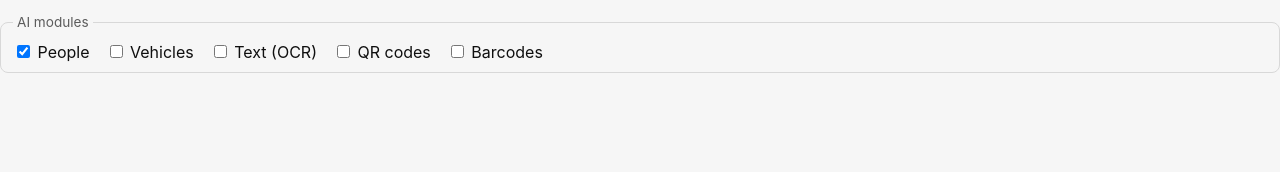
Test: ModuleSelector › goes back to the saved selection if the save fails
Click the checkbox labelled "Vehicles": [116, 52] box [110, 45, 123, 58]
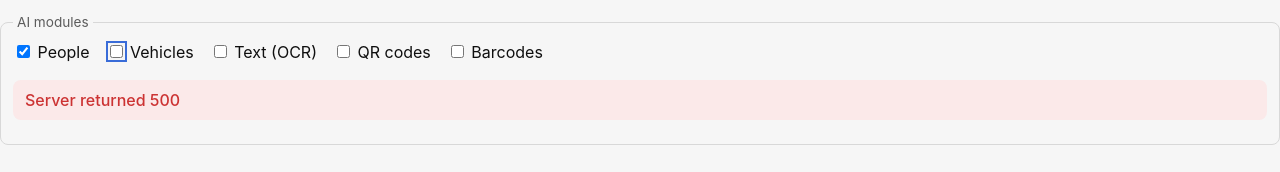
Expected: the checkbox labelled "People" is checked, [17, 45, 30, 58]
Result: the text "Server returned 500" is shown at [13, 80, 1267, 120]
